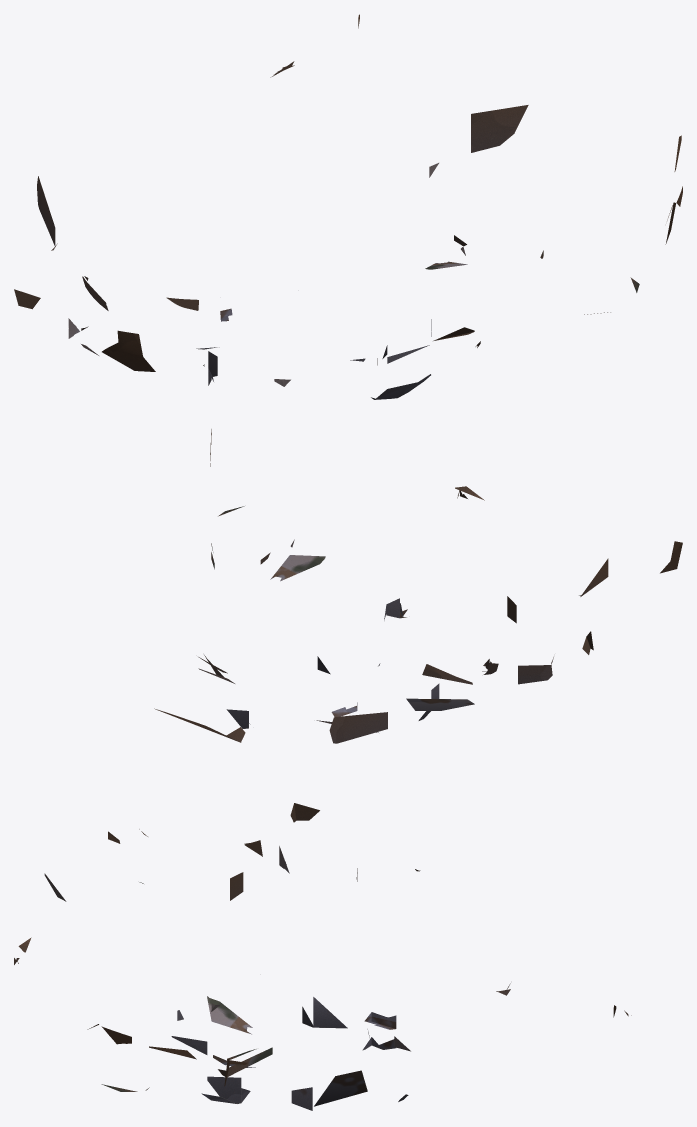
3 renders of one model, top to bottom at view 1: azimuth 30°, elevation 25°; view 2: azimuth 150°, elevation 25°; view 3: azimuth 270°, elevation 25°, orthographic. The views are drawn at different scales.
Visible parts, largest first — view 1: Dirt_3_1_-1_110, Dirt_-4_-3_0; view 2: Dirt_-2_2_-1_010, Columns_1_-2_-1_010, Columns_-3_1_-1_101_001, Dirt_-4_-1_-1_110; view 3: Columns_1_0_-2_000_000, Columns_1_-2_-1_010, Columns_-2_-1_-2_110_011, Columns_0_-2_-2_110.
Part boxes in pixels (x1,y1,x2,y2): Dirt_3_1_-1_110: (471,105,528,152); Dirt_-4_-3_0: (102,330,155,371); Dirt_-2_2_-1_010: (329,712,387,743); Columns_1_-2_-1_010: (270,555,325,581); Columns_-3_1_-1_101_001: (406,698,474,710); Dirt_-4_-1_-1_110: (518,657,553,684); Columns_1_0_-2_000_000: (314,1070,367,1106); Columns_1_-2_-1_010: (207,996,252,1034); Columns_-2_-1_-2_110_011: (302,997,347,1028); Columns_0_-2_-2_110: (207,1076,241,1103).
Size of the model in its own units: 566 by 155 by 547.
57 materials, 57 textured.
